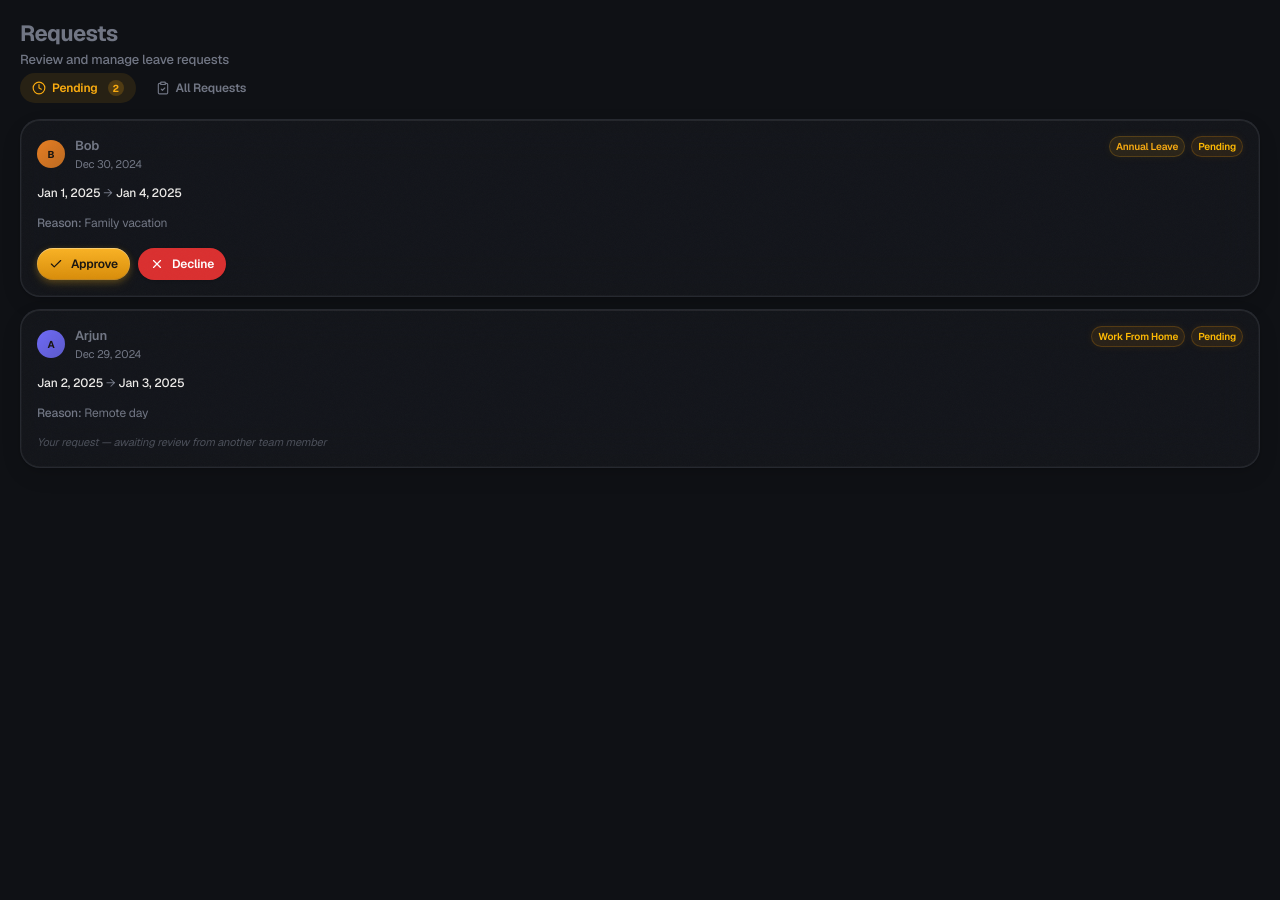
Test case: RequestsScreen › switches to All tab and shows all requests including declined
Click the button "All Requests" at (201, 88), box [144,73,258,103]
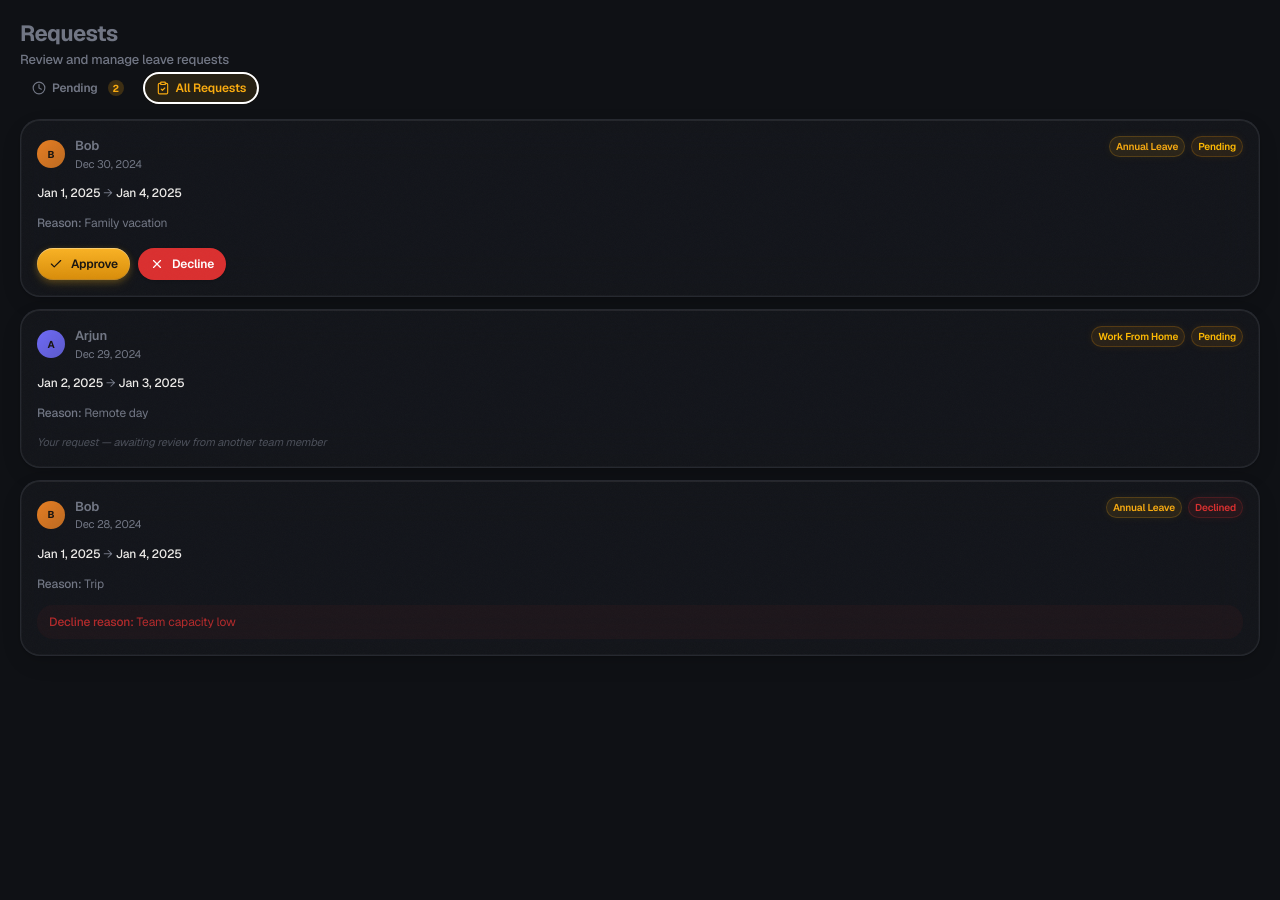
Result: the text "Decline reason:" is shown at [49,614,134,630]
Result: the text "Team capacity low" is shown at [136,614,236,630]
